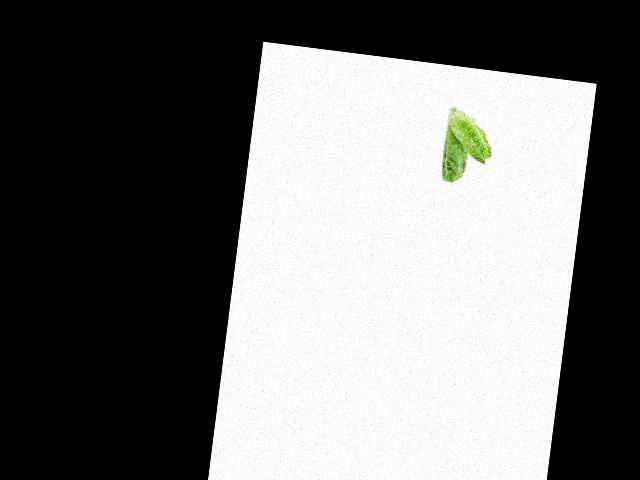lettuce: (435, 121, 473, 189)
